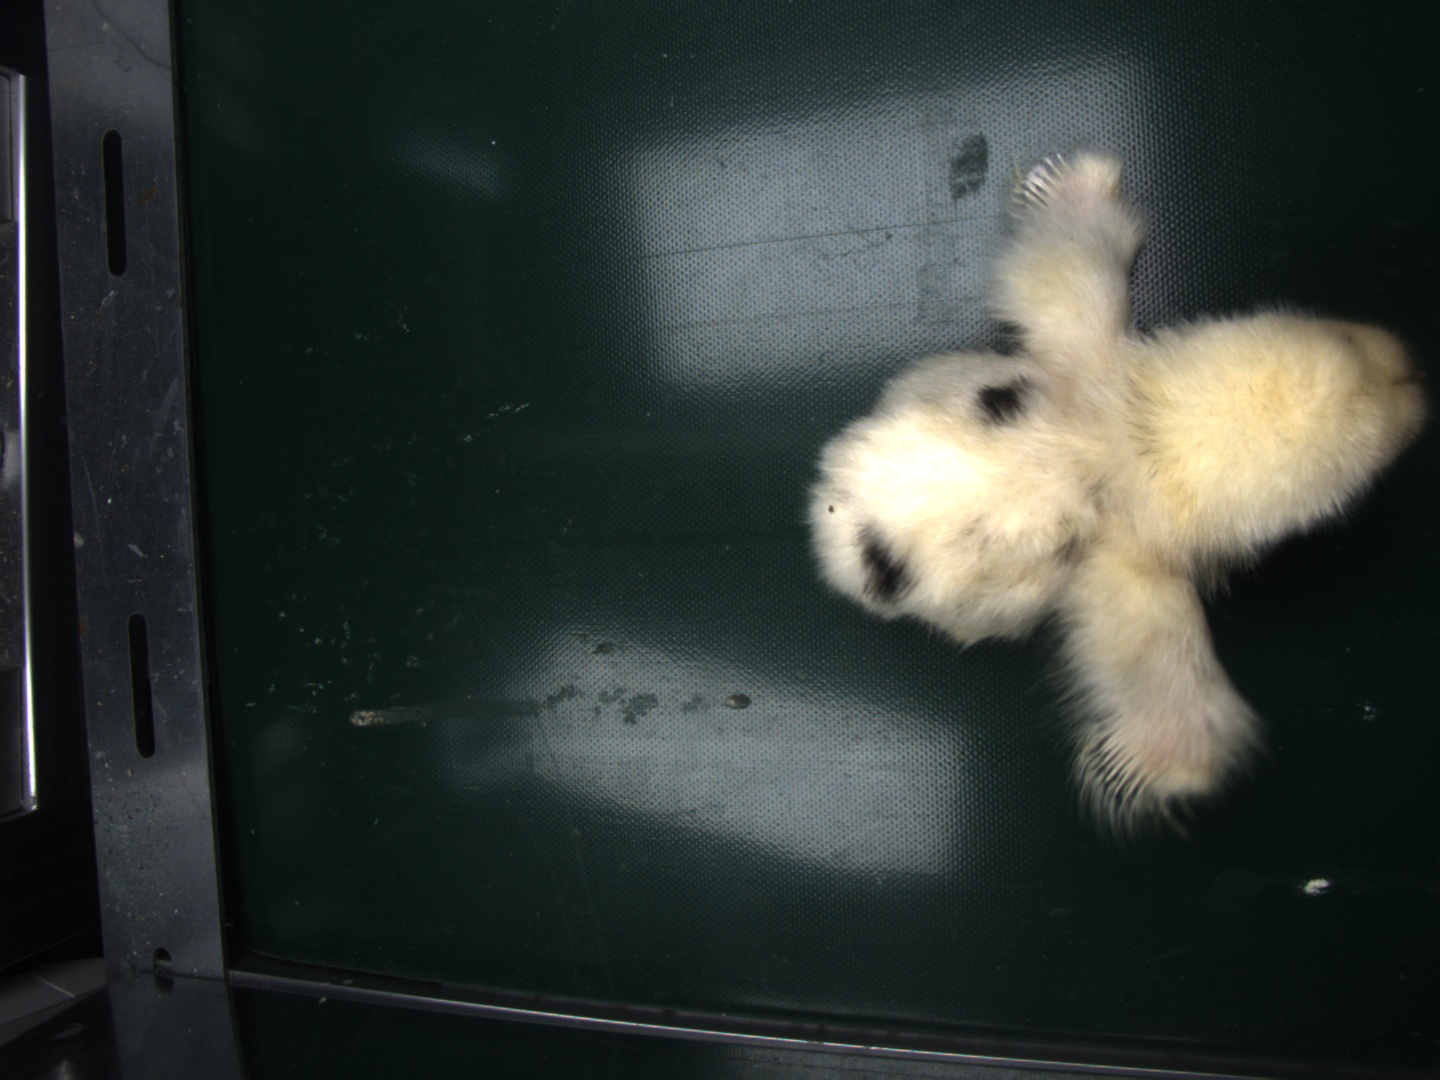male: (1089, 725, 1162, 803)
